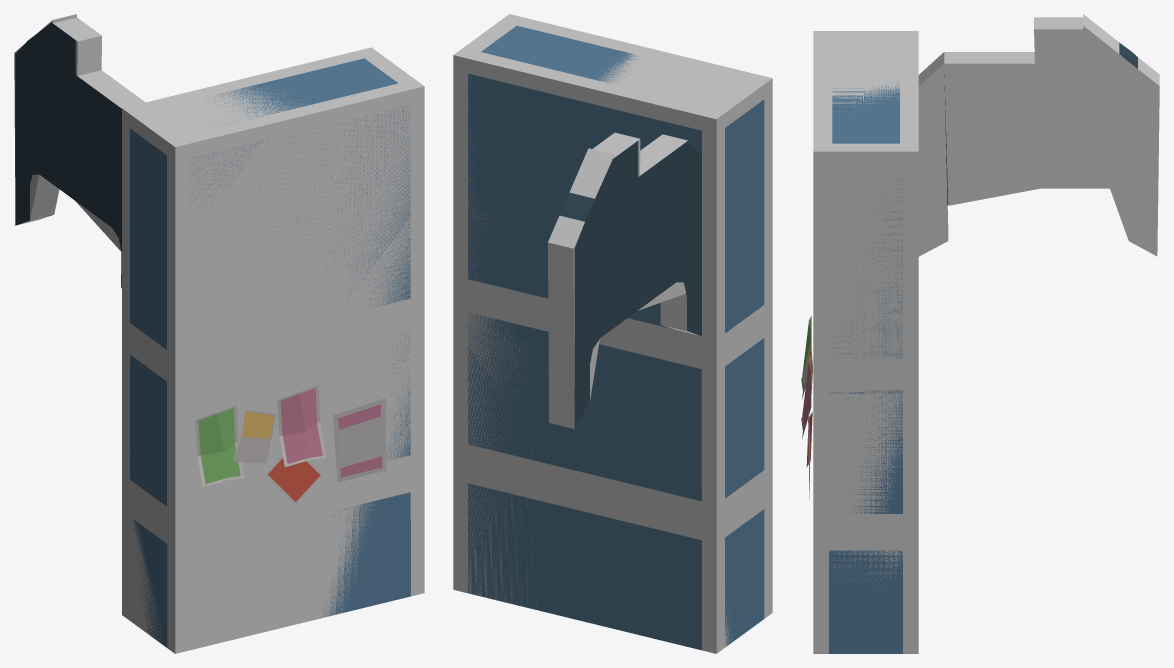
File: SM_Arc.fbx
The picture shows the model from 3 angles, left to right: view 1: azimuth 30°, elevation 25°; view 2: azimuth 150°, elevation 25°; view 3: azimuth 270°, elevation 25°; orthographic projection. The views are drawn at different scales.
Parts seen in each view (by area): view 1: SM_Arc_ConvexHulls, SM_Arc; view 2: SM_Arc, SM_Arc_ConvexHulls; view 3: SM_Arc_ConvexHulls, SM_Arc.
Boxes of the visible parts, bbox=[...] form: SM_Arc_ConvexHulls: bbox=[14, 14, 424, 653]; SM_Arc: bbox=[15, 22, 410, 647]; SM_Arc: bbox=[468, 25, 764, 650]; SM_Arc_ConvexHulls: bbox=[453, 14, 772, 653]; SM_Arc_ConvexHulls: bbox=[813, 14, 1159, 653]; SM_Arc: bbox=[801, 29, 1137, 653].
Bounding box in the file's own units: 498 × 625 × 1012.
